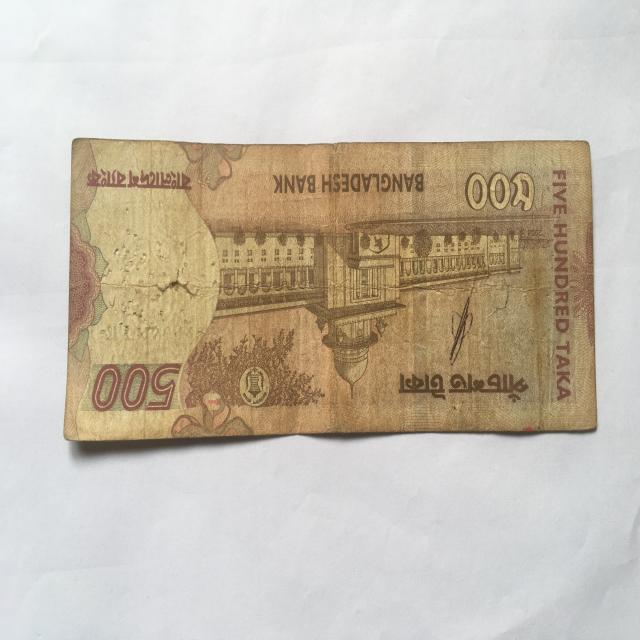Taka: (63, 131, 599, 439)
